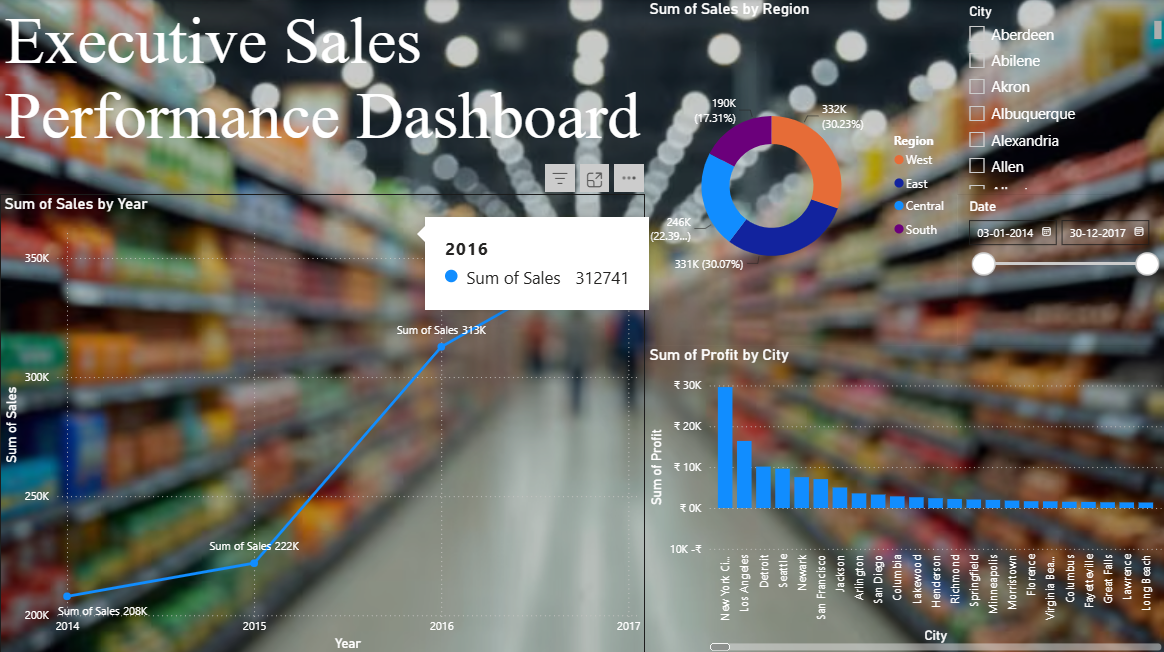

The page's visual inventory and layout, read from the dashboard file:
{"tool":"powerbi","page":{"name":"Page 1","canvas":[1280,720],"ordinal":0},"visuals":[{"type":"lineChart","fields":{"Category":["Date.Year"],"Y":["Sum(Sample - Superstore.Sales)"]},"box":[0,214.1,708.1,506.3],"z":0},{"type":"columnChart","fields":{"Category":["Sample - Superstore.City"],"Y":["Sum(Sample - Superstore.Profit)"]},"box":[708.1,380.1,572.2,340.3],"z":1},{"type":"donutChart","fields":{"Category":["Sample - Superstore.Region"],"Y":["Sum(Sample - Superstore.Sales)"]},"box":[708.1,0,343.1,380.1],"z":2},{"type":"slicer","fields":{"Values":["Sample - Superstore.City"]},"box":[1051.1,0,229.2,214.1],"z":3},{"type":"slicer","fields":{"Values":["Date.Date"]},"box":[1051.1,214.1,229.2,166],"z":4},{"type":"textbox","box":[0,0,708.1,214.1],"z":5}]}

Visuals, with their boxes in screenshot pixels (x1, y1, x2, y2), scaled from the page's 1280x720 canvas onto the 1164x652 screenshot:
lineChart - Date.Year x Sum(Sample - Superstore.Sales): 0:194:644:651
columnChart - Sample - Superstore.City x Sum(Sample - Superstore.Profit): 644:344:1163:651
donutChart - Sample - Superstore.Region x Sum(Sample - Superstore.Sales): 644:0:956:344
slicer - Sample - Superstore.City: 956:0:1163:194
slicer - Date.Date: 956:194:1163:344
textbox: 0:0:644:194
